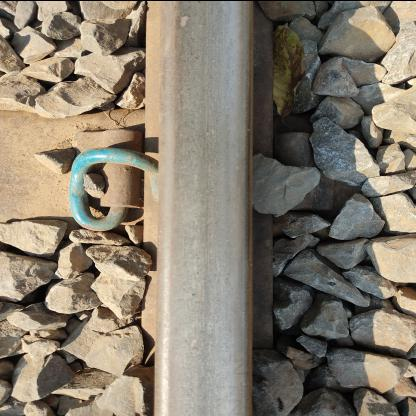Defective 1: (245, 104, 361, 222)
Non Defective 1: (55, 128, 171, 246)
